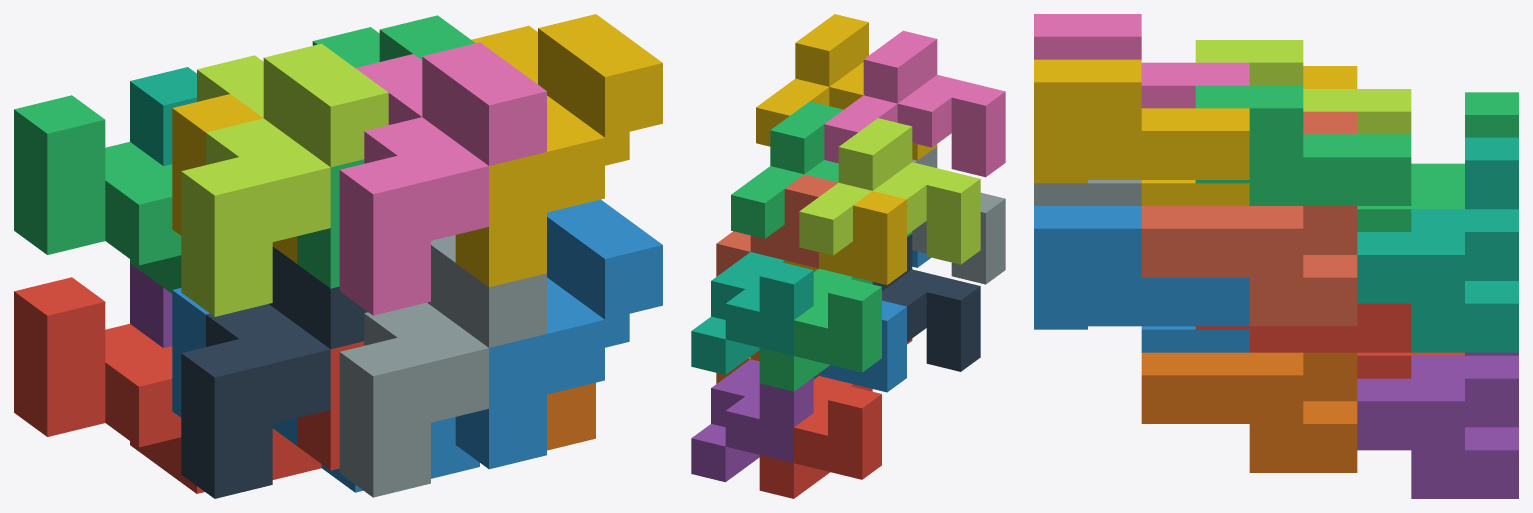
File: tiling.obj
3 renders of one model, left to right at view 1: azimuth 30°, elevation 25°; view 2: azimuth 150°, elevation 25°; view 3: azimuth 270°, elevation 25°, orthographic. The views are drawn at different scales.
Parts seen in each view (by area): view 1: copy_2_domain_4, copy_2_domain_3, copy_2_domain_2, copy_2_domain_8, copy_2_domain_1, copy_2_domain_6, copy_1_domain_1, copy_1_domain_3, copy_2_domain_7, copy_1_domain_2, copy_1_domain_4, copy_1_domain_7 (+3 smaller); view 2: copy_2_domain_3, copy_2_domain_4, copy_1_domain_7, copy_1_domain_5, copy_1_domain_3, copy_1_domain_1, copy_2_domain_8, copy_2_domain_7, copy_2_domain_1, copy_1_domain_4, copy_1_domain_8, copy_2_domain_2 (+1 smaller); view 3: copy_1_domain_7, copy_1_domain_8, copy_2_domain_8, copy_1_domain_6, copy_1_domain_5, copy_2_domain_6, copy_2_domain_7, copy_2_domain_4, copy_2_domain_3, copy_1_domain_3, copy_2_domain_5, copy_1_domain_4 (+3 smaller).
Part boxes in pixels (box(x1,y1,x2,y2)): copy_2_domain_4: box(339, 42, 546, 315); copy_2_domain_3: box(181, 43, 388, 316); copy_2_domain_2: box(339, 235, 546, 497); copy_2_domain_8: box(455, 14, 662, 287); copy_2_domain_1: box(181, 246, 367, 498); copy_2_domain_6: box(455, 199, 662, 469); copy_1_domain_1: box(14, 277, 321, 493); copy_1_domain_3: box(14, 95, 181, 293); copy_2_domain_7: box(297, 15, 475, 288); copy_1_domain_2: box(172, 288, 479, 492); copy_1_domain_4: box(172, 94, 297, 263); copy_1_domain_7: box(130, 67, 196, 165); copy_2_domain_3: box(799, 118, 980, 264); copy_2_domain_4: box(824, 30, 1005, 177); copy_1_domain_7: box(691, 252, 813, 374); copy_1_domain_5: box(691, 359, 813, 482); copy_1_domain_3: box(759, 268, 881, 391); copy_1_domain_1: box(759, 376, 881, 498); copy_2_domain_8: box(756, 14, 937, 160); copy_2_domain_7: box(731, 101, 912, 238); copy_2_domain_1: box(872, 234, 980, 371); copy_1_domain_4: box(784, 191, 906, 284); copy_1_domain_8: box(716, 174, 837, 276); copy_2_domain_2: box(912, 146, 1005, 284); copy_1_domain_7: box(1357, 137, 1518, 352); copy_1_domain_8: box(1141, 111, 1357, 326); copy_2_domain_8: box(1034, 59, 1249, 183); copy_1_domain_6: box(1141, 352, 1357, 472); copy_1_domain_5: box(1357, 352, 1518, 498); copy_2_domain_6: box(1034, 206, 1249, 329); copy_2_domain_7: box(1195, 85, 1411, 205); copy_2_domain_4: box(1034, 14, 1249, 108); copy_2_domain_3: box(1195, 40, 1411, 134); copy_1_domain_3: box(1357, 92, 1518, 231); copy_2_domain_5: box(1195, 303, 1411, 352); copy_1_domain_4: box(1141, 66, 1357, 205).
Size of the model in its own units: 6 by 9 by 9.
